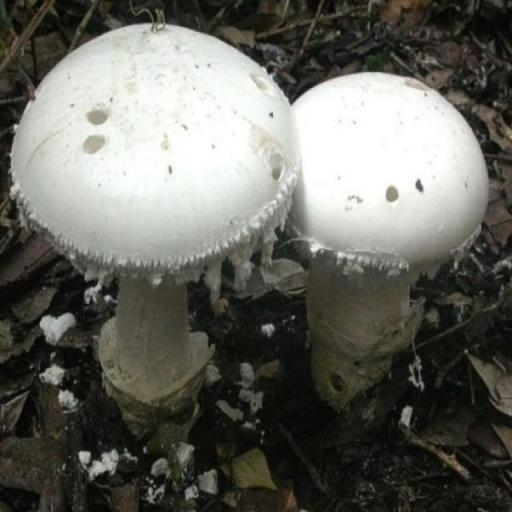mushroom: (12, 21, 298, 426), (287, 70, 490, 401)
